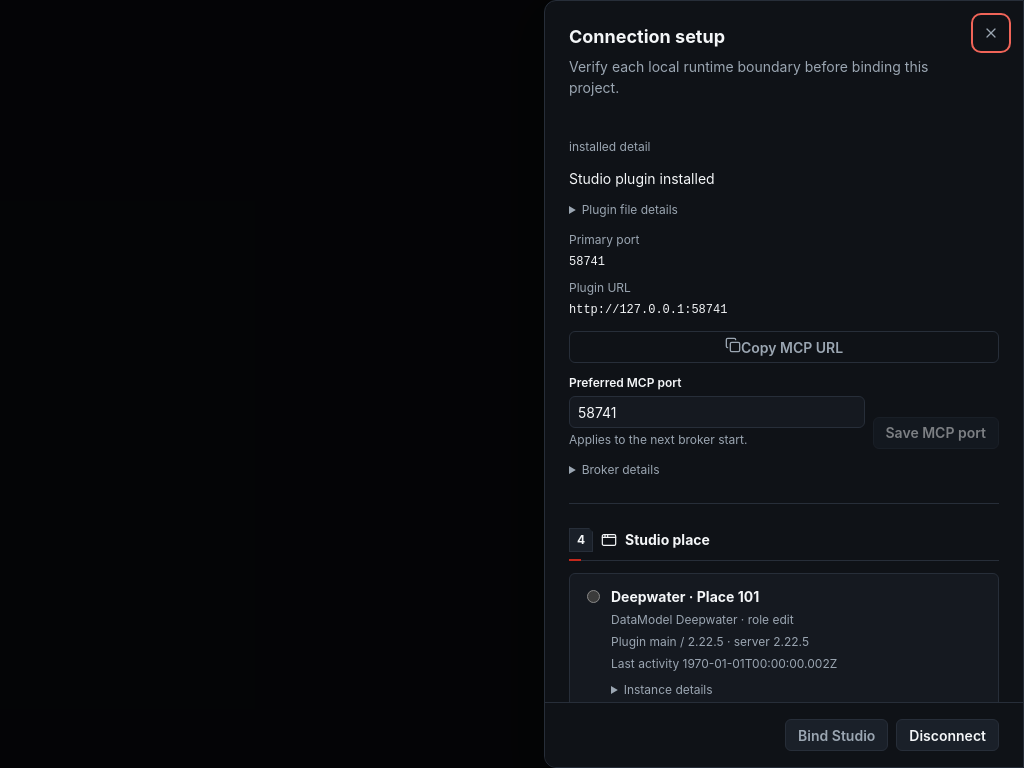
ConnectionSheet project, Rojo, and MCP steps › rejects the invalid MCP port boundary 1023
The width and height of the screenshot is (1024, 768).
(page scrolled)
Replace the text in the number field labelled "Preferred MCP port" with "1023": [717, 412] box [569,396,864,428]
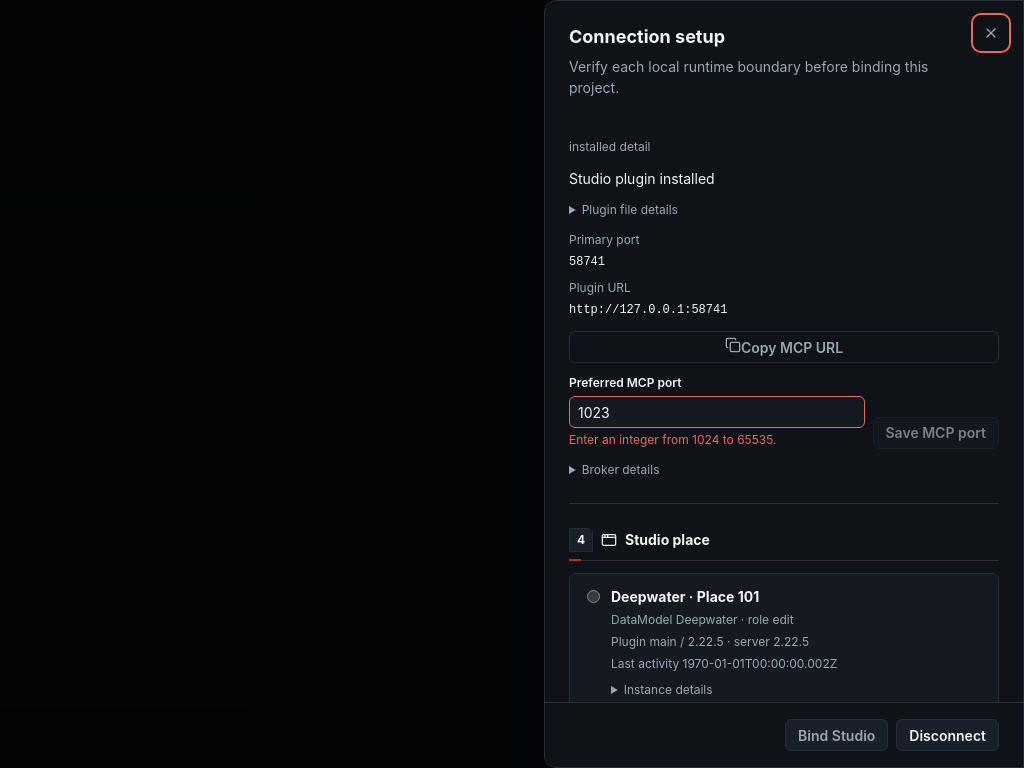
Check: the button "Save MCP port" is disabled, box [872,417,999,449]
Check: the text "Enter an integer from 1024 to 65535." is shown, box [569,432,776,447]
